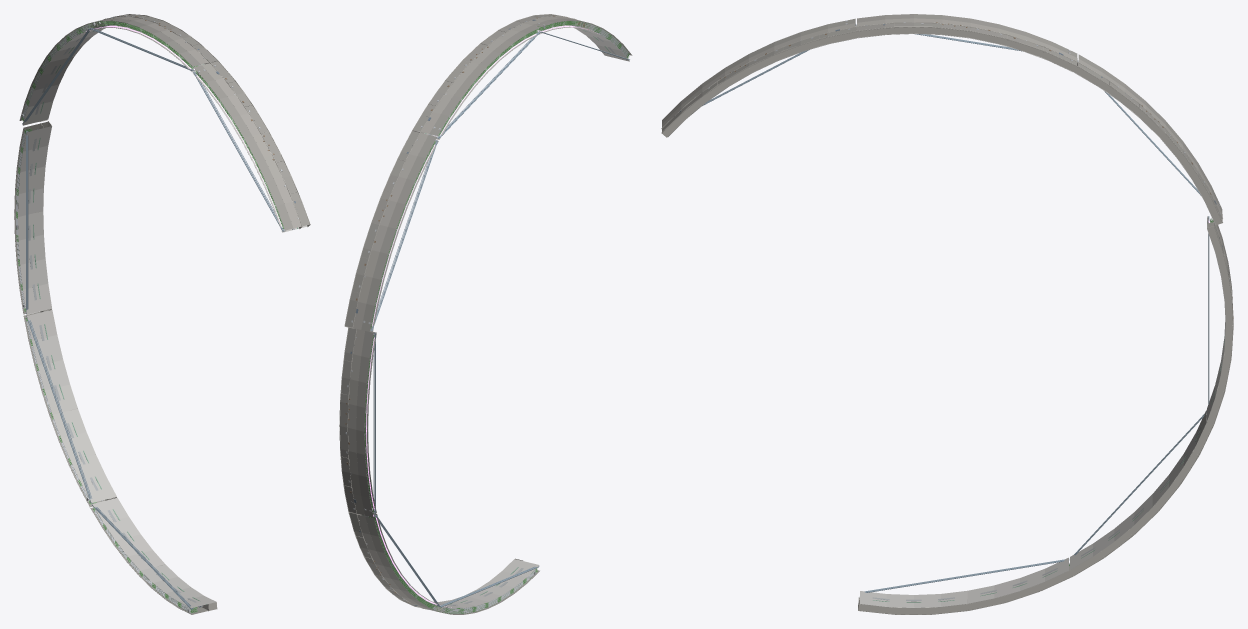
The model's file is xuanshu_interior_C27.glb.
The picture shows the model from 3 angles, left to right: view 1: azimuth 30°, elevation 25°; view 2: azimuth 150°, elevation 25°; view 3: azimuth 270°, elevation 25°; orthographic projection. The views are drawn at different scales.
Parts seen in each view (by area): view 1: UNIT-AGR-006, UNIT-AGR-007; view 2: UNIT-AGR-007, UNIT-AGR-006; view 3: UNIT-AGR-007, UNIT-AGR-006.
Part boxes in pixels (x1,y1,x2,y2): UNIT-AGR-006: (14, 121, 217, 614); UNIT-AGR-007: (19, 14, 310, 232); UNIT-AGR-007: (344, 14, 632, 331); UNIT-AGR-006: (339, 327, 539, 614); UNIT-AGR-007: (661, 14, 1222, 225); UNIT-AGR-006: (858, 216, 1233, 614).
Bounding box in the file's own units: 13.31 × 279 × 246.
